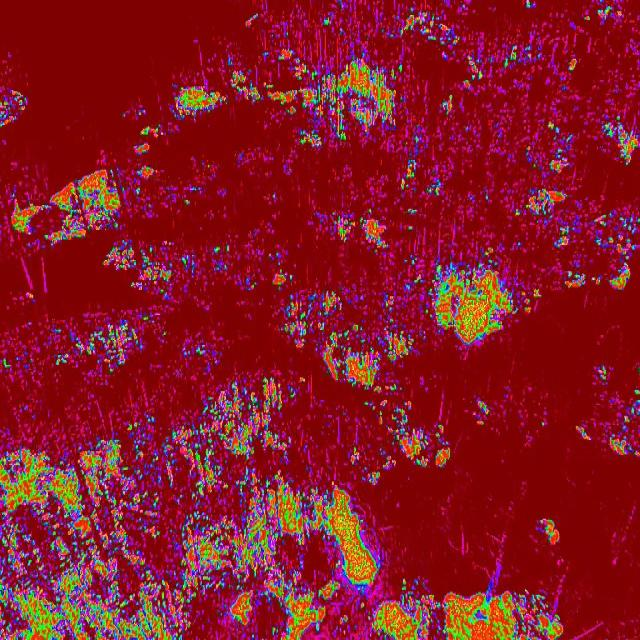fire: (0, 380, 295, 640), (229, 56, 402, 149), (295, 475, 383, 640), (284, 288, 412, 391), (424, 253, 542, 349), (384, 582, 567, 640), (10, 166, 126, 242), (399, 12, 555, 67), (366, 399, 462, 472), (98, 230, 182, 300), (580, 362, 640, 459), (520, 126, 574, 220), (56, 316, 142, 374), (593, 208, 640, 291), (162, 79, 227, 125), (338, 211, 392, 254), (130, 117, 162, 183), (606, 116, 640, 168), (0, 84, 30, 130), (532, 514, 566, 550), (472, 400, 492, 428)
